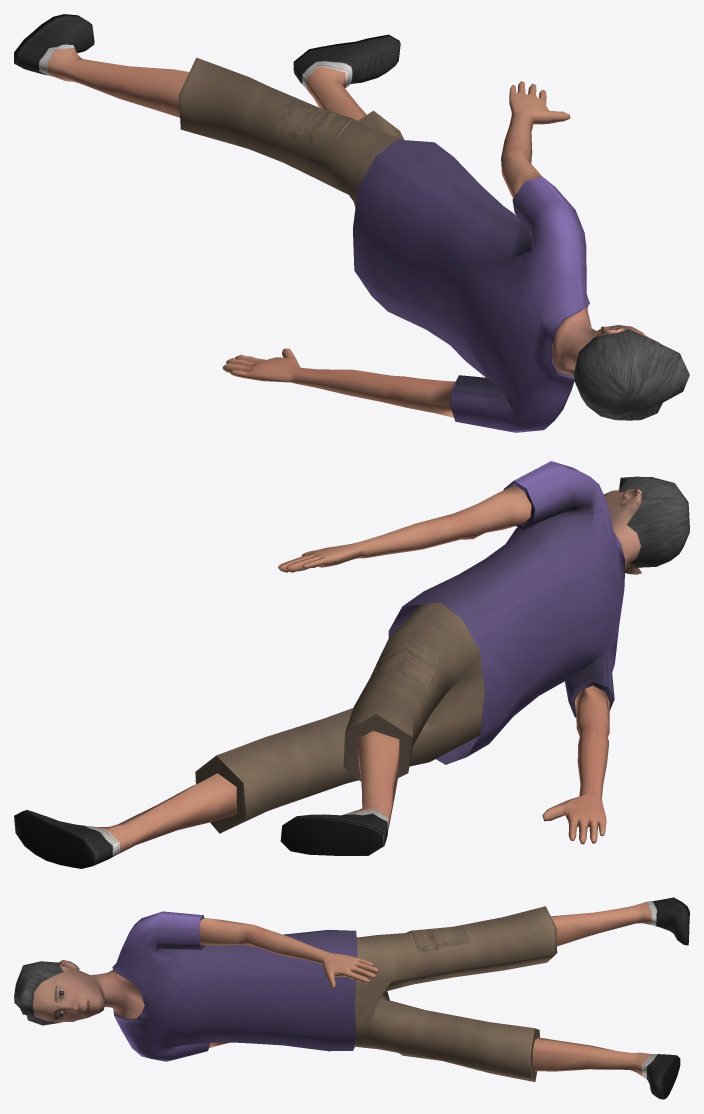
The model's file is walk.obj.
3 views of the same model, one above another, from view 1: azimuth 30°, elevation 25°; view 2: azimuth 150°, elevation 25°; view 3: azimuth 270°, elevation 25° (orthographic). The views are drawn at different scales.
Bounding box in the file's own units: 0.8135 × 0.4725 × 1.75.
1 material, 1 textured.
